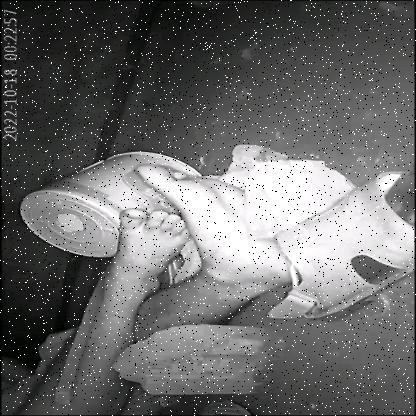leg: (128, 150, 316, 330), (46, 194, 194, 413)
